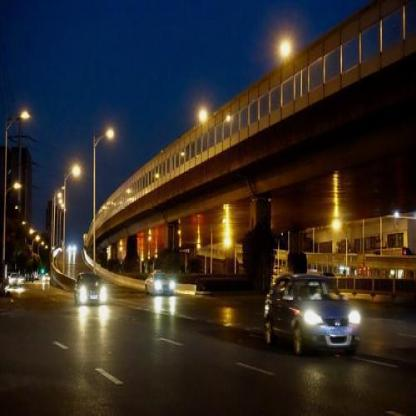other: (319, 179, 347, 235), (212, 204, 238, 259)
